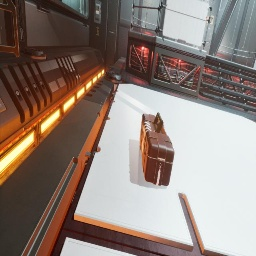EmergencyPhone ,: (209, 13, 214, 25), (96, 25, 99, 36), (98, 29, 99, 30), (212, 18, 213, 19)
FireAlarm ,: (206, 16, 209, 23)
FirstAidBox ,: (140, 112, 174, 186)
SafetySwitchPanel ,: (94, 0, 101, 24)
